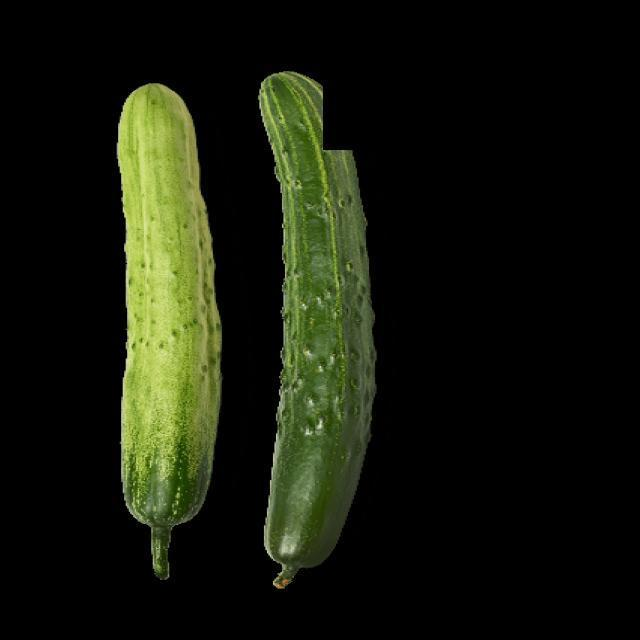cucumber: (87, 26, 412, 624), (238, 41, 380, 605), (113, 63, 231, 603)
